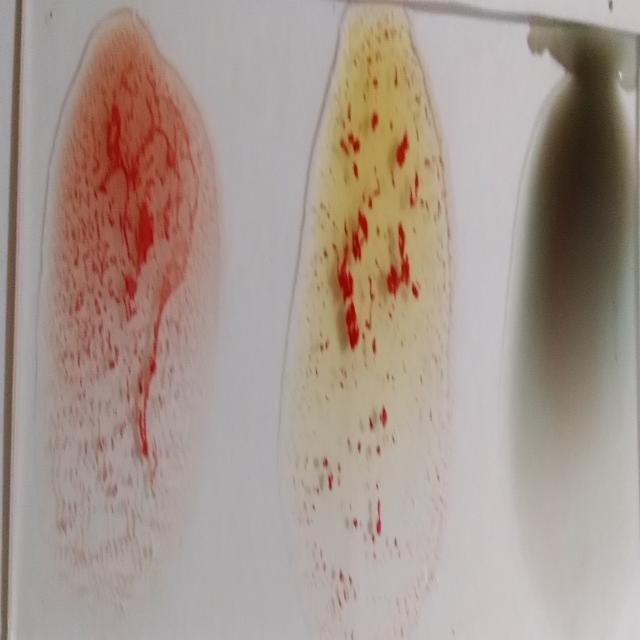B: (295, 23, 454, 632)
D: (46, 46, 200, 586)
